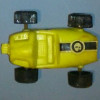amarillo_este: (2, 13, 98, 86)
